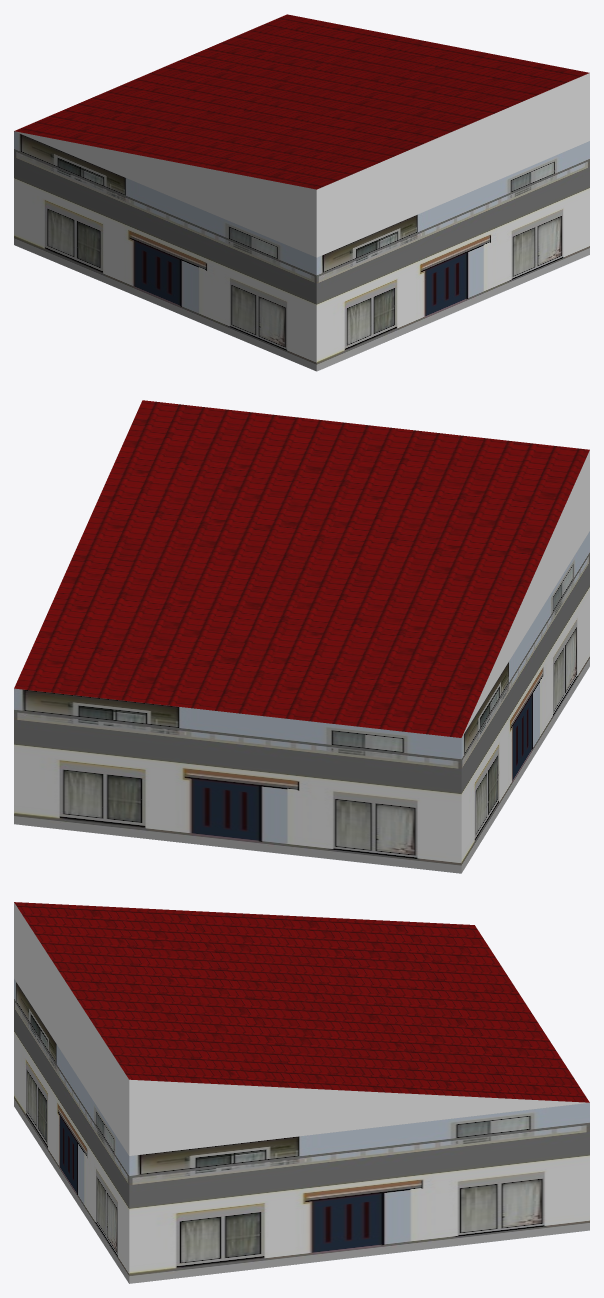
The picture shows the model from 3 angles, top to bottom: view 1: azimuth 30°, elevation 25°; view 2: azimuth 150°, elevation 25°; view 3: azimuth 270°, elevation 25°; orthographic projection. The views are drawn at different scales.
Visible parts, largest first — view 1: CityEngineMaterial_7_m, CityEngineMaterial_17_m, CityEngineMaterial_3_m; view 2: CityEngineMaterial_17_m, CityEngineMaterial_7_m, CityEngineMaterial_3_m; view 3: CityEngineMaterial_17_m, CityEngineMaterial_7_m, CityEngineMaterial_3_m.
Part boxes in pixels (bbox=[...]): CityEngineMaterial_7_m: bbox=[14, 131, 589, 371]; CityEngineMaterial_17_m: bbox=[14, 14, 589, 189]; CityEngineMaterial_3_m: bbox=[15, 73, 589, 257]; CityEngineMaterial_17_m: bbox=[14, 400, 589, 737]; CityEngineMaterial_7_m: bbox=[14, 531, 589, 873]; CityEngineMaterial_3_m: bbox=[462, 450, 589, 736]; CityEngineMaterial_17_m: bbox=[14, 902, 589, 1102]; CityEngineMaterial_7_m: bbox=[14, 979, 589, 1283]; CityEngineMaterial_3_m: bbox=[14, 902, 588, 1155].
Bounding box in the file's own units: 23.91 × 9.85 × 25.19.
